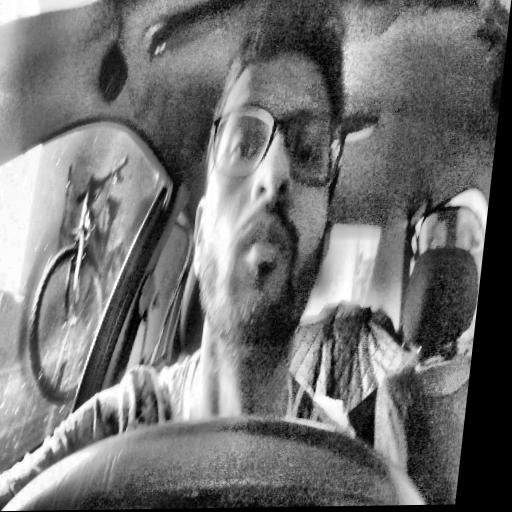awake: (177, 9, 361, 361)
